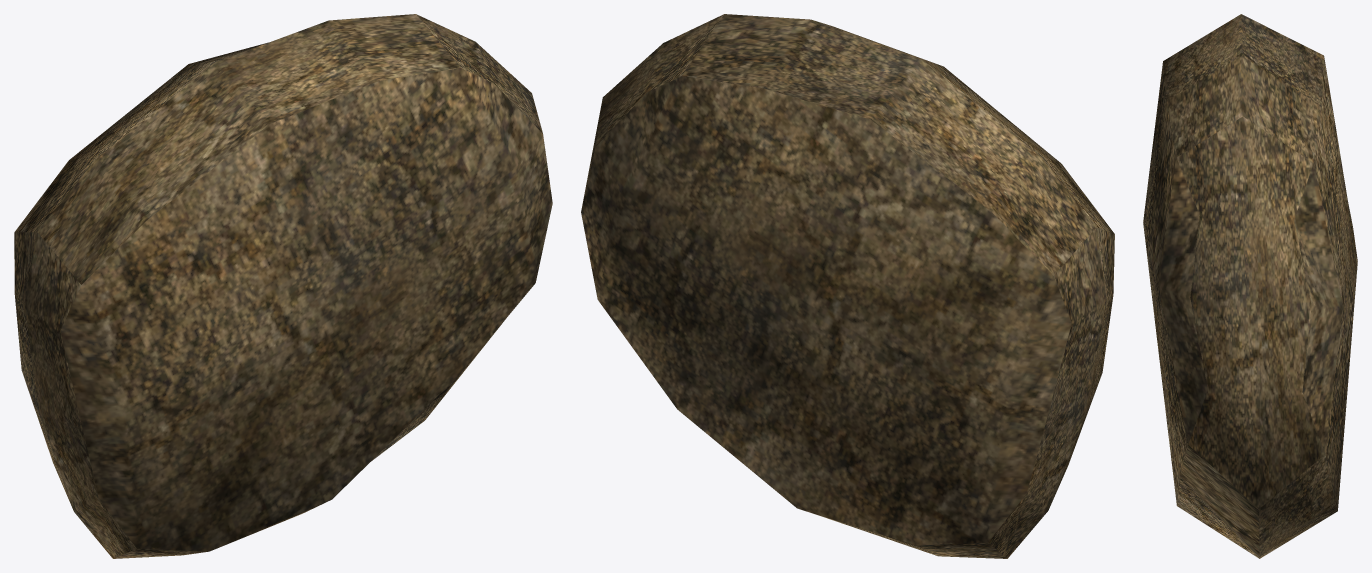
File: CH09_SMAUG_PLAYSURFACE_LONELYMOUNTAIN_LM_PLAYSURFACE08.fbx
3 renders of one model, left to right at view 1: azimuth 30°, elevation 25°; view 2: azimuth 150°, elevation 25°; view 3: azimuth 270°, elevation 25°, orthographic. The views are drawn at different scales.
Parts seen in each view (by area): view 1: CH09_SMAUG_PLAYSURFACE_LONELYMOUNTAIN_LM_PLAYSURFACE08; view 2: CH09_SMAUG_PLAYSURFACE_LONELYMOUNTAIN_LM_PLAYSURFACE08; view 3: CH09_SMAUG_PLAYSURFACE_LONELYMOUNTAIN_LM_PLAYSURFACE08.
Boxes of the visible parts, left/top/right/bottom form: CH09_SMAUG_PLAYSURFACE_LONELYMOUNTAIN_LM_PLAYSURFACE08: left=14, top=14, right=552, bottom=558; CH09_SMAUG_PLAYSURFACE_LONELYMOUNTAIN_LM_PLAYSURFACE08: left=581, top=14, right=1114, bottom=558; CH09_SMAUG_PLAYSURFACE_LONELYMOUNTAIN_LM_PLAYSURFACE08: left=1143, top=14, right=1357, bottom=558.
Bounding box in the file's own units: 15151 × 13924 × 5173.
Materials: 1 (1 with a texture image).
